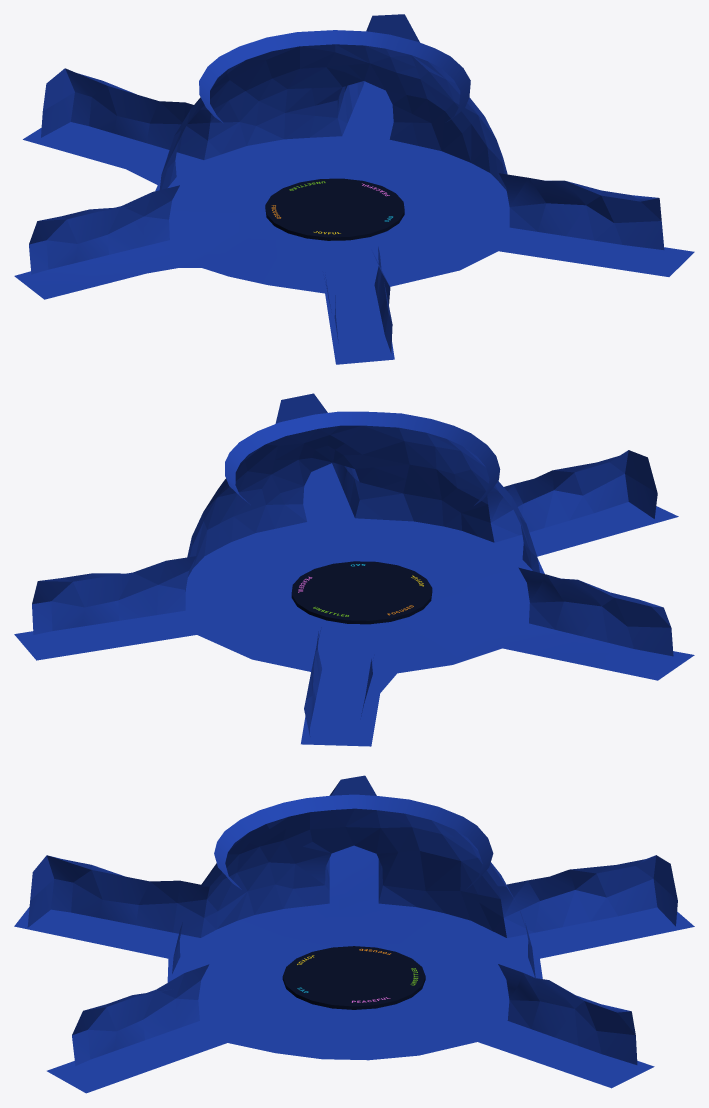
File: roomBase.glb
3 views of the same model, one above another, from view 1: azimuth 30°, elevation 25°; view 2: azimuth 150°, elevation 25°; view 3: azimuth 270°, elevation 25° (orthographic).
Visible parts, largest first — view 1: room1 mainRoomFloor, mainRoom room1, room1 central_pedestal; view 2: room1 mainRoomFloor, mainRoom room1, room1 central_pedestal; view 3: mainRoom room1, room1 mainRoomFloor, room1 central_pedestal.
Boxes of the visible parts, <box> form: room1 mainRoomFloor: <box>14,81,694,364</box>; mainRoom room1: <box>29,14,664,353</box>; room1 central_pedestal: <box>265,178,404,240</box>; room1 mainRoomFloor: <box>14,463,694,746</box>; mainRoom room1: <box>32,393,673,736</box>; room1 central_pedestal: <box>291,561,432,624</box>; mainRoom room1: <box>27,775,677,1065</box>; room1 mainRoomFloor: <box>14,845,694,1093</box>; room1 central_pedestal: <box>282,946,425,1009</box>.
Size of the model in its own units: 27.02 by 6.02 by 29.01.
3 materials, 3 textured.
